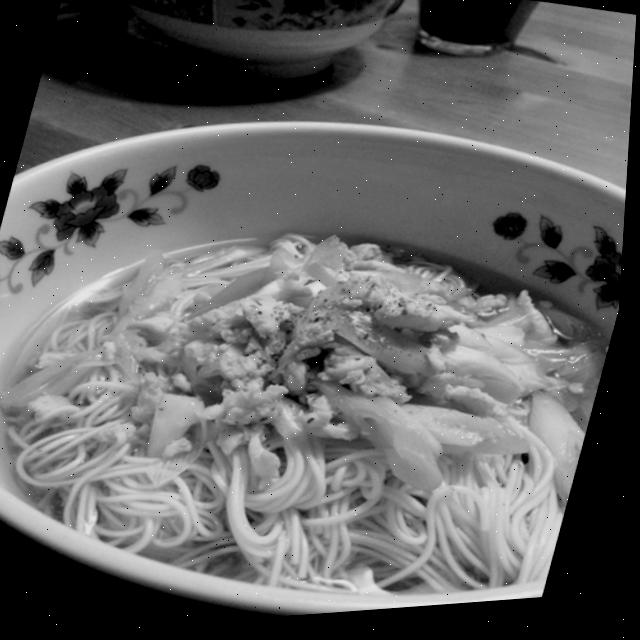面条主食: (0, 77, 635, 640)
